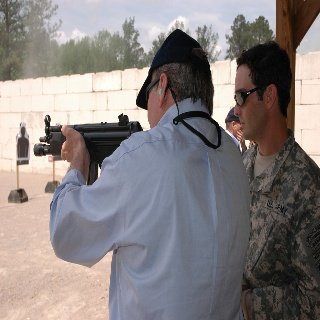rifle: (32, 112, 145, 188)
